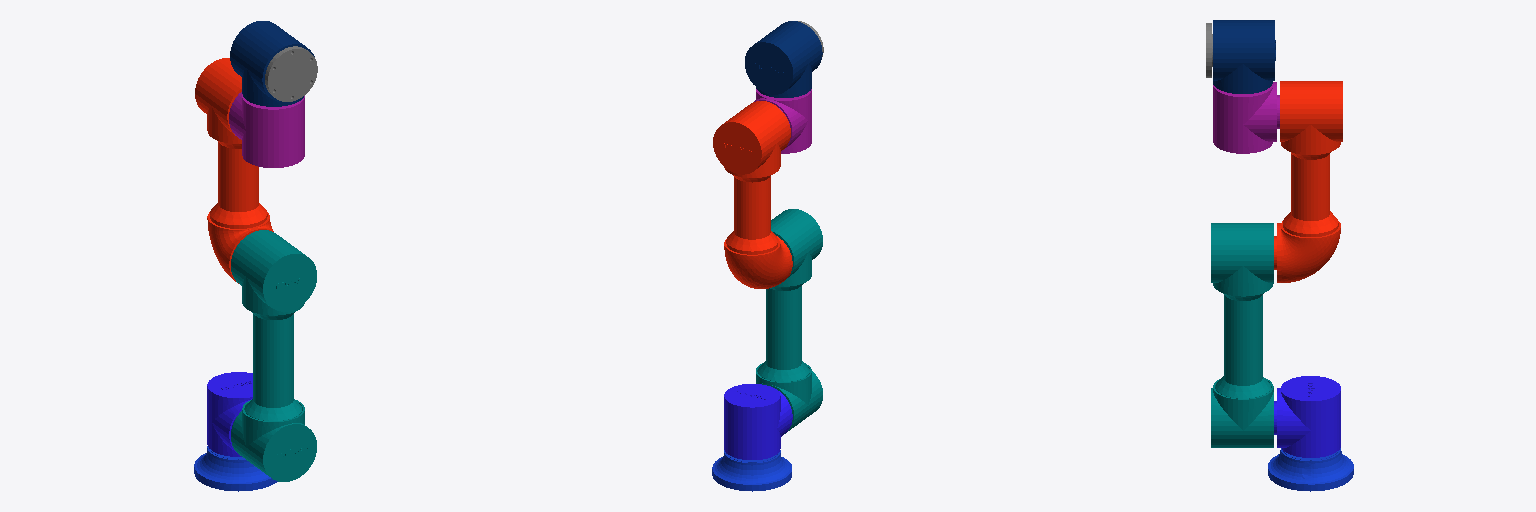
robot.urdf — mockway_description:
<?xml version="1.0"?>
<robot name="mockway_description">

  <link name="base_link">
    <inertial>
      <mass value="0.097"/>
      <origin xyz="-0.000 -0.000 0.014" rpy="0 0 0"/>
      <inertia ixx="0.000049" iyy="0.000049" izz="0.000080" ixy="-0.000000" ixz="0.000000" iyz="0.000000"/>
    </inertial>
    <visual>
      <origin xyz="0 0 0" rpy="0 0 0"/>
      <geometry>
        <mesh filename="package://mockway_description/meshes/base_link.dae"/>
      </geometry>
      <material name="">
        <color rgba="0.127 0.301 0.847 1.000"/>
      </material>
    </visual>
    <collision>
      <origin xyz="0 0 0" rpy="0 0 0"/>
      <geometry>
        <mesh filename="package://mockway_description/meshes/base_link.dae"/>
      </geometry>
    </collision>
  </link>

  <joint name="joint1" type="revolute">
    <parent link="base_link"/>
    <child link="link1"/>
    <origin xyz="0.000 0.000 0.064" rpy="0.000 -0.000 0.000"/>
    <axis xyz="0 0 1"/>
    <limit lower="-6.280" upper="6.280" effort="9.000" velocity="3.140"/>
  </joint>

  <link name="link1">
    <inertial>
      <mass value="0.371"/>
      <origin xyz="0.000 -0.003 -0.005" rpy="0 0 0"/>
      <inertia ixx="0.000184" iyy="0.000164" izz="0.000200" ixy="0.000000" ixz="-0.000000" iyz="0.000006"/>
    </inertial>
    <visual>
      <origin xyz="0 0 0" rpy="0 0 0"/>
      <geometry>
        <mesh filename="package://mockway_description/meshes/link1.dae"/>
      </geometry>
      <material name="">
        <color rgba="0.231 0.162 1.000 1.000"/>
      </material>
    </visual>
    <collision>
      <origin xyz="0 0 0" rpy="0 0 0"/>
      <geometry>
        <mesh filename="package://mockway_description/meshes/link1.dae"/>
      </geometry>
    </collision>
  </link>

  <joint name="joint2" type="revolute">
    <parent link="link1"/>
    <child link="link2"/>
    <origin xyz="0.000 0.000 0.000" rpy="1.571 -0.000 0.000"/>
    <axis xyz="0 0 1"/>
    <limit lower="-6.280" upper="6.280" effort="9.000" velocity="3.140"/>
  </joint>

  <link name="link2">
    <inertial>
      <mass value="0.914"/>
      <origin xyz="-0.000 0.095 0.068" rpy="0 0 0"/>
      <inertia ixx="0.007997" iyy="0.000440" izz="0.007995" ixy="-0.000000" ixz="0.000000" iyz="0.000000"/>
    </inertial>
    <visual>
      <origin xyz="0 0 0" rpy="0 0 0"/>
      <geometry>
        <mesh filename="package://mockway_description/meshes/link2.dae"/>
      </geometry>
      <material name="">
        <color rgba="0.031 0.558 0.558 1.000"/>
      </material>
    </visual>
    <collision>
      <origin xyz="0 0 0" rpy="0 0 0"/>
      <geometry>
        <mesh filename="package://mockway_description/meshes/link2.dae"/>
      </geometry>
    </collision>
  </link>

  <joint name="joint3" type="revolute">
    <parent link="link2"/>
    <child link="link3"/>
    <origin xyz="0.000 0.190 0.000" rpy="0.000 -0.000 0.000"/>
    <axis xyz="0 0 1"/>
    <limit lower="-3.140" upper="3.140" effort="9.000" velocity="3.140"/>
  </joint>

  <link name="link3">
    <inertial>
      <mass value="0.481"/>
      <origin xyz="-0.000 0.131 0.006" rpy="0 0 0"/>
      <inertia ixx="0.001799" iyy="0.000245" izz="0.001803" ixy="0.000000" ixz="-0.000000" iyz="0.000070"/>
    </inertial>
    <visual>
      <origin xyz="0 0 0" rpy="0 0 0"/>
      <geometry>
        <mesh filename="package://mockway_description/meshes/link3.dae"/>
      </geometry>
      <material name="">
        <color rgba="1.000 0.212 0.080 1.000"/>
      </material>
    </visual>
    <collision>
      <origin xyz="0 0 0" rpy="0 0 0"/>
      <geometry>
        <mesh filename="package://mockway_description/meshes/link3.dae"/>
      </geometry>
    </collision>
  </link>

  <joint name="joint4" type="revolute">
    <parent link="link3"/>
    <child link="link4"/>
    <origin xyz="0.000 0.163 0.000" rpy="0.000 -0.000 0.000"/>
    <axis xyz="0 0 1"/>
    <limit lower="-6.280" upper="6.280" effort="3.000" velocity="3.140"/>
  </joint>

  <link name="link4">
    <inertial>
      <mass value="0.371"/>
      <origin xyz="0.000 0.005 0.068" rpy="0 0 0"/>
      <inertia ixx="0.000184" iyy="0.000200" izz="0.000164" ixy="0.000000" ixz="0.000000" iyz="-0.000006"/>
    </inertial>
    <visual>
      <origin xyz="0 0 0" rpy="0 0 0"/>
      <geometry>
        <mesh filename="package://mockway_description/meshes/link4.dae"/>
      </geometry>
      <material name="">
        <color rgba="0.701 0.162 0.672 1.000"/>
      </material>
    </visual>
    <collision>
      <origin xyz="0 0 0" rpy="0 0 0"/>
      <geometry>
        <mesh filename="package://mockway_description/meshes/link4.dae"/>
      </geometry>
    </collision>
  </link>

  <joint name="joint5" type="revolute">
    <parent link="link4"/>
    <child link="link5"/>
    <origin xyz="0.000 0.000 0.071" rpy="-1.571 0.000 0.000"/>
    <axis xyz="0 0 1"/>
    <limit lower="-6.280" upper="6.280" effort="3.000" velocity="3.140"/>
  </joint>

  <link name="link5">
    <inertial>
      <mass value="0.371"/>
      <origin xyz="-0.000 -0.005 0.068" rpy="0 0 0"/>
      <inertia ixx="0.000184" iyy="0.000200" izz="0.000164" ixy="0.000000" ixz="-0.000000" iyz="0.000006"/>
    </inertial>
    <visual>
      <origin xyz="0 0 0" rpy="0 0 0"/>
      <geometry>
        <mesh filename="package://mockway_description/meshes/link5.dae"/>
      </geometry>
      <material name="">
        <color rgba="0.061 0.223 0.456 1.000"/>
      </material>
    </visual>
    <collision>
      <origin xyz="0 0 0" rpy="0 0 0"/>
      <geometry>
        <mesh filename="package://mockway_description/meshes/link5.dae"/>
      </geometry>
    </collision>
  </link>

  <joint name="joint6" type="revolute">
    <parent link="link5"/>
    <child link="link6"/>
    <origin xyz="0.000 -0.039 0.071" rpy="1.571 -0.000 0.000"/>
    <axis xyz="0 0 1"/>
    <limit lower="-6.280" upper="6.280" effort="3.000" velocity="3.140"/>
  </joint>

  <link name="link6">
    <inertial>
      <mass value="0.016"/>
      <origin xyz="0.000 -0.000 -0.004" rpy="0 0 0"/>
      <inertia ixx="0.000003" iyy="0.000003" izz="0.000006" ixy="0.000000" ixz="0.000000" iyz="0.000000"/>
    </inertial>
    <visual>
      <origin xyz="0 0 0" rpy="0 0 0"/>
      <geometry>
        <mesh filename="package://mockway_description/meshes/link6.dae"/>
      </geometry>
      <material name="">
        <color rgba="0.527 0.527 0.527 1.000"/>
      </material>
    </visual>
    <collision>
      <origin xyz="0 0 0" rpy="0 0 0"/>
      <geometry>
        <mesh filename="package://mockway_description/meshes/link6.dae"/>
      </geometry>
    </collision>
  </link>

</robot>

--- Facts derived from the render (not from the file) ---
Views: 3 orthographic renders of the robot side by side, from view 1: azimuth 30°, elevation 25°; view 2: azimuth 150°, elevation 25°; view 3: azimuth 270°, elevation 25°.
Robot: mockway_description — 7 links, 6 joints (6 revolute); root link base_link; default pose: all joints at 0.
Links seen in each view (by area): view 1: link2, link3, link4, link5, link1, link6, base_link; view 2: link3, link2, link5, link1, base_link, link4; view 3: link2, link3, link1, link5, link4, base_link.
Link boxes in pixels (x1=…): link2: x1=231, y1=230, x2=316, y2=481; link3: x1=195, y1=58, x2=273, y2=283; link4: x1=229, y1=92, x2=304, y2=167; link5: x1=230, y1=21, x2=314, y2=106; link1: x1=207, y1=372, x2=252, y2=456; link6: x1=265, y1=46, x2=317, y2=101; base_link: x1=194, y1=446, x2=277, y2=491; link3: x1=713, y1=101, x2=792, y2=288; link2: x1=756, y1=209, x2=822, y2=433; link5: x1=745, y1=21, x2=822, y2=97; link1: x1=724, y1=384, x2=792, y2=459; base_link: x1=712, y1=450, x2=791, y2=491; link4: x1=754, y1=89, x2=811, y2=153; link2: x1=1211, y1=223, x2=1273, y2=447; link3: x1=1274, y1=81, x2=1342, y2=282; link1: x1=1274, y1=376, x2=1340, y2=457; link5: x1=1213, y1=20, x2=1275, y2=93; link4: x1=1213, y1=82, x2=1279, y2=153; base_link: x1=1268, y1=448, x2=1353, y2=491.
Bounding box of the posed robot: 0.09 × 0.1546 × 0.5193 m (x, y, z).
Meshes: 7 distinct files referenced, 7 mesh visuals loaded (7 Collada DAE).
